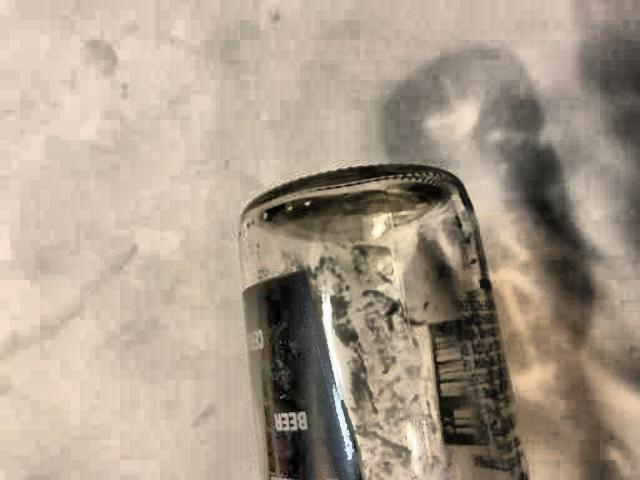Bottles: (209, 151, 538, 480)
